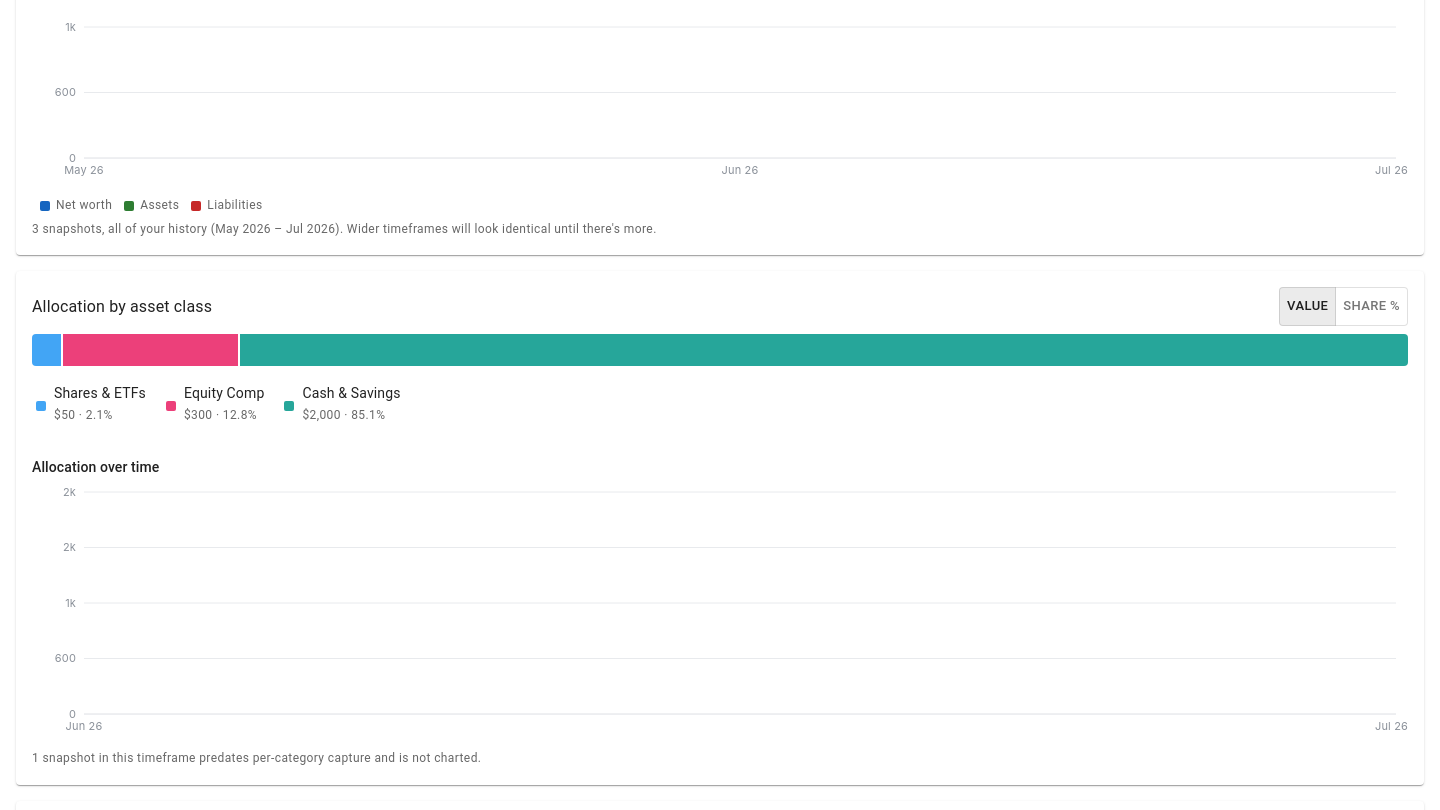
clicking the Equity Comp legend opens a breakdown split by grant type
(page scrolled)
What coordinates should you click on to do the following:
click the button "Equity Comp $300 · 12.8%"
I would click on:
 (217, 406)
Its box is [162, 378, 272, 433].
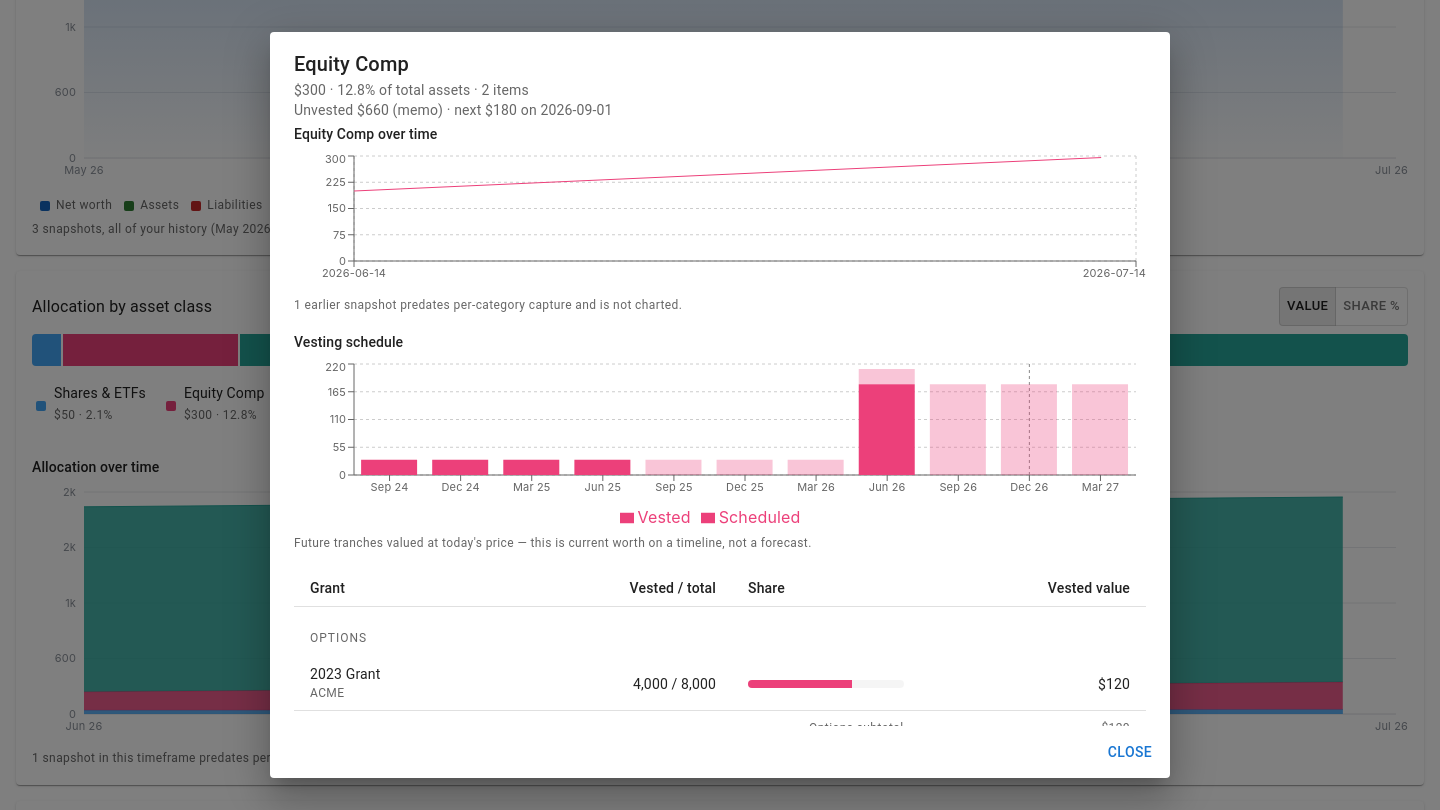
Expected: the text "Options" is shown, [310, 631, 367, 645]
Expected: the text "2023 Grant" is shown, [310, 666, 380, 682]
Expected: the text "4,000 / 8,000" is shown, [497, 658, 732, 711]
